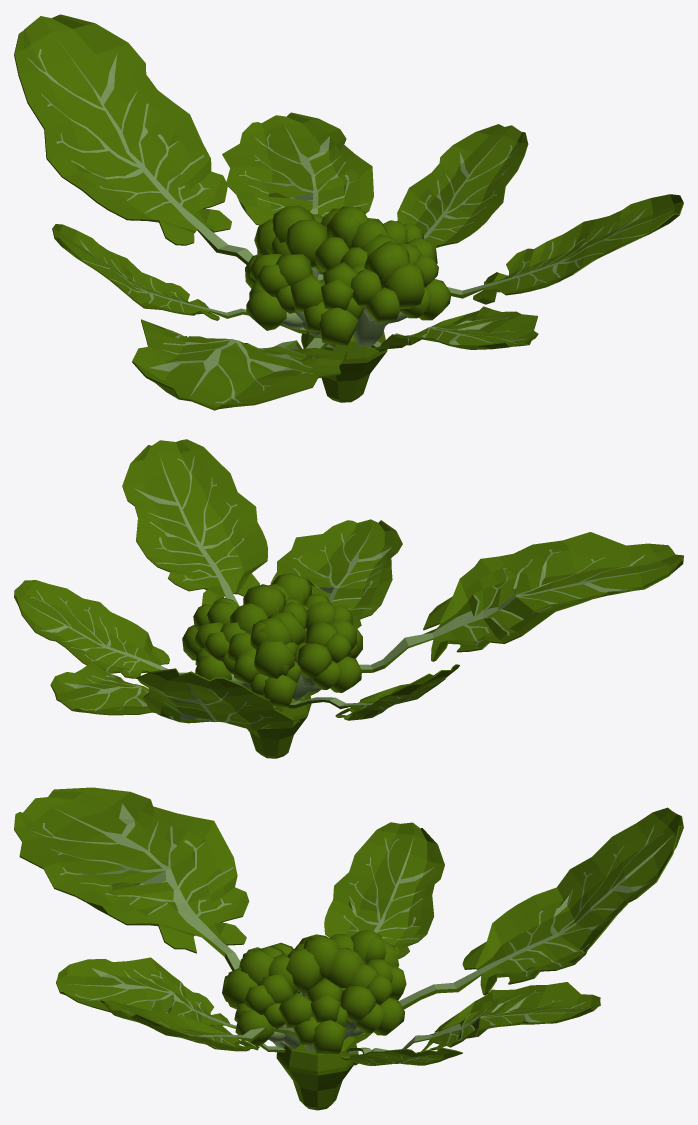
The model's file is BroccoliPlant.fbx.
3 views of the same model, one above another, from view 1: azimuth 30°, elevation 25°; view 2: azimuth 150°, elevation 25°; view 3: azimuth 270°, elevation 25° (orthographic). The views are drawn at different scales.
Parts seen in each view (by area): view 1: BroccoliPlant; view 2: BroccoliPlant; view 3: BroccoliPlant.
Part boxes in pixels (left/top/right/bottom): BroccoliPlant: left=14, top=14, right=683, bottom=410; BroccoliPlant: left=14, top=439, right=683, bottom=758; BroccoliPlant: left=14, top=787, right=683, bottom=1110.
Bounding box in the file's own units: 2925 × 1301 × 3271.
